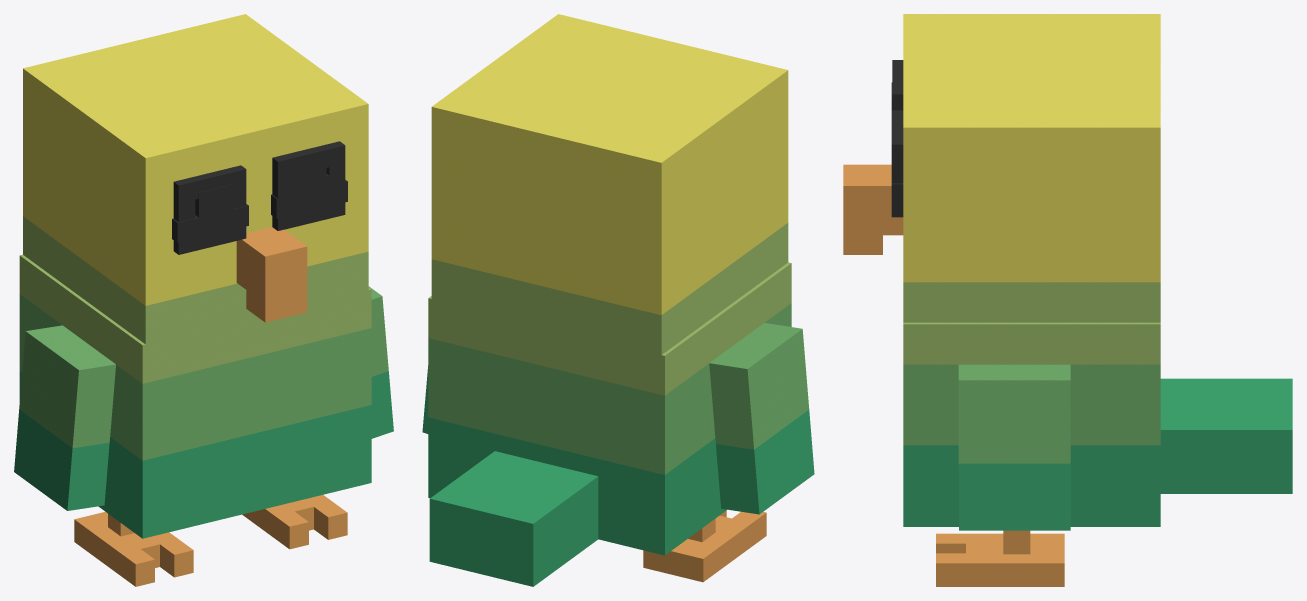
3 views of the same model, side by side, from view 1: azimuth 30°, elevation 25°; view 2: azimuth 150°, elevation 25°; view 3: azimuth 270°, elevation 25° (orthographic). The views are drawn at different scales.
Visible parts, largest first — view 1: Ch_18_Head, Ch_18, Ch_18_Wing_L, Ch_18_Leg_L, Ch_18_Eye_03_R, Ch_18_Leg_R, Ch_18_Eye_01, Ch_18_Eye_03_L, Ch_18_Wing_R, Ch_18_Eye_02; view 2: Ch_18_Head, Ch_18, Ch_18_Wing_L, Ch_18_Leg_L; view 3: Ch_18_Head, Ch_18, Ch_18_Wing_R, Ch_18_Leg_R, Ch_18_Eye_03_R, Ch_18_Eye_03_L.
Boxes of the visible parts, box(x1,y1,x2,y2) form: Ch_18_Head: box(23, 14, 368, 344); Ch_18: box(19, 254, 371, 538); Ch_18_Wing_L: box(14, 325, 115, 510); Ch_18_Leg_L: box(74, 511, 193, 586); Ch_18_Eye_03_R: box(272, 141, 345, 230); Ch_18_Leg_R: box(242, 495, 347, 549); Ch_18_Eye_01: box(195, 161, 326, 237); Ch_18_Eye_03_L: box(173, 165, 246, 254); Ch_18_Wing_R: box(368, 286, 393, 438); Ch_18_Eye_02: box(172, 180, 347, 242); Ch_18_Head: box(431, 14, 788, 354); Ch_18: box(428, 262, 791, 586); Ch_18_Wing_L: box(709, 323, 814, 514); Ch_18_Leg_L: box(643, 510, 766, 582); Ch_18_Head: box(843, 14, 1160, 322); Ch_18: box(903, 322, 1292, 526); Ch_18_Wing_R: box(958, 364, 1070, 530); Ch_18_Leg_R: box(936, 530, 1064, 586); Ch_18_Eye_03_R: box(891, 110, 903, 217); Ch_18_Eye_03_L: box(892, 60, 903, 110).
Size of the model in its own units: 8.08 by 10.43 by 9.19.
